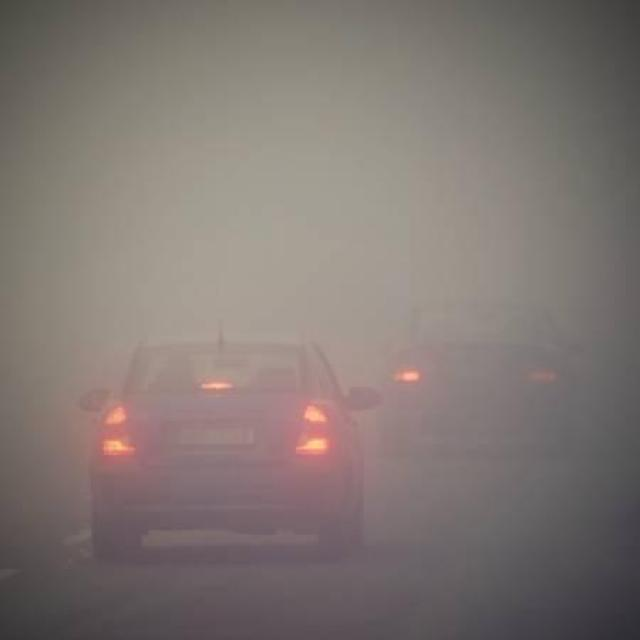Car: (76, 320, 386, 567), (390, 293, 594, 455)
